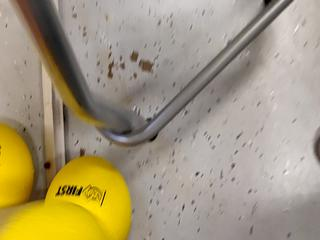power_cell: (44, 154, 132, 239), (1, 198, 105, 240), (1, 121, 40, 206)
